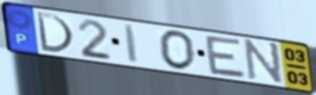2: (76, 18, 114, 62)
D: (34, 10, 77, 56)
E: (203, 34, 249, 80)
I: (123, 23, 141, 66)
N: (244, 38, 285, 87)
O: (157, 28, 198, 72)
